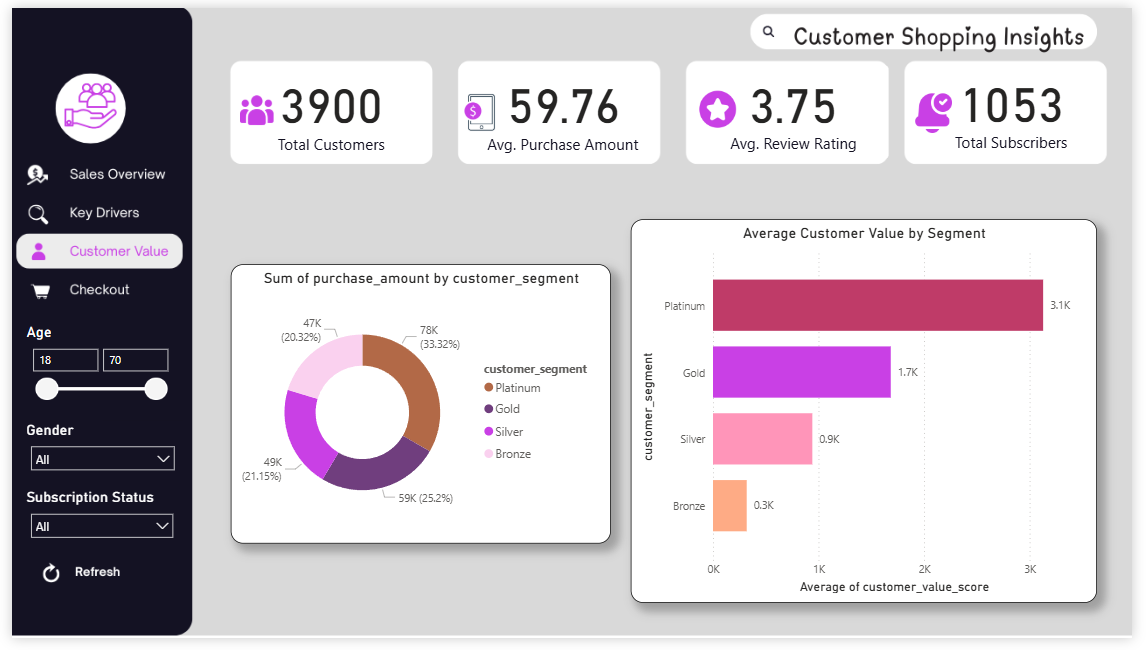

The page's visual inventory and layout, read from the dashboard file:
{"tool":"powerbi","page":{"name":"Customer Value","canvas":[1280,720],"ordinal":2},"visuals":[{"type":"donutChart","fields":{"Category":["customer_behavior.customer_segment"],"Y":["Sum(customer_behavior.purchase_amount)"]},"box":[250.3,293.3,434.4,319],"z":0},{"type":"barChart","title":"Average Customer Value by Segment","fields":{"Category":["customer_behavior.customer_segment"],"Y":["Avg(customer_behavior.customer_value_score)"]},"box":[706.6,242.1,532.7,438.3],"z":1000},{"type":"slicer","title":"Age","fields":{"Values":["customer_behavior.age"]},"box":[11,359.5,174.2,90.8],"z":2000},{"type":"slicer","title":"Gender","fields":{"Values":["customer_behavior.gender"]},"box":[11,471.2,184.1,62.6],"z":3000},{"type":"slicer","title":"Subscription Status","fields":{"Values":["customer_behavior.subscription_status"]},"box":[11,548.5,182.8,63.8],"z":4000},{"type":"card","fields":{"Values":["Avg(customer_behavior.purchase_amount)"]},"box":[521.5,66.3,217.2,108],"z":5000},{"type":"card","fields":{"Values":["Avg(customer_behavior.review_rating)"]},"box":[785.3,66.3,216,106.7],"z":6000},{"type":"card","title":"Total Customers","fields":{"Values":["CountNonNull(customer_behavior.customer_id)"]},"box":[258.9,66.3,213.5,108],"z":7000},{"type":"card","fields":{"Values":["CountNonNull(customer_behavior.customer_id)"]},"box":[1040.5,63.8,204.9,106.7],"z":8000},{"type":"image","box":[249.1,93.3,62.6,47.9],"z":9000},{"type":"image","box":[503.1,93.3,61.4,52.8],"z":10000},{"type":"image","box":[775.5,85.9,61.4,60.1],"z":11000},{"type":"image","box":[1020.9,90.8,61.4,57.7],"z":12000}]}

Visuals, with their boxes on the page's 1280x720 design canvas (x1, y1, x2, y2). These are canvas units, not pixel positions in the 1146x650 screenshot, which may show the page scaled, cropped or inside an application window:
donutChart - customer_behavior.customer_segment x Sum(customer_behavior.purchase_amount): <region>250, 293, 685, 612</region>
"Average Customer Value by Segment" barChart: <region>707, 242, 1239, 680</region>
"Age" slicer: <region>11, 360, 185, 450</region>
"Gender" slicer: <region>11, 471, 195, 534</region>
"Subscription Status" slicer: <region>11, 548, 194, 612</region>
card - Avg(customer_behavior.purchase_amount): <region>522, 66, 739, 174</region>
card - Avg(customer_behavior.review_rating): <region>785, 66, 1001, 173</region>
"Total Customers" card: <region>259, 66, 472, 174</region>
card - CountNonNull(customer_behavior.customer_id): <region>1040, 64, 1245, 170</region>
image: <region>249, 93, 312, 141</region>
image: <region>503, 93, 564, 146</region>
image: <region>776, 86, 837, 146</region>
image: <region>1021, 91, 1082, 148</region>
